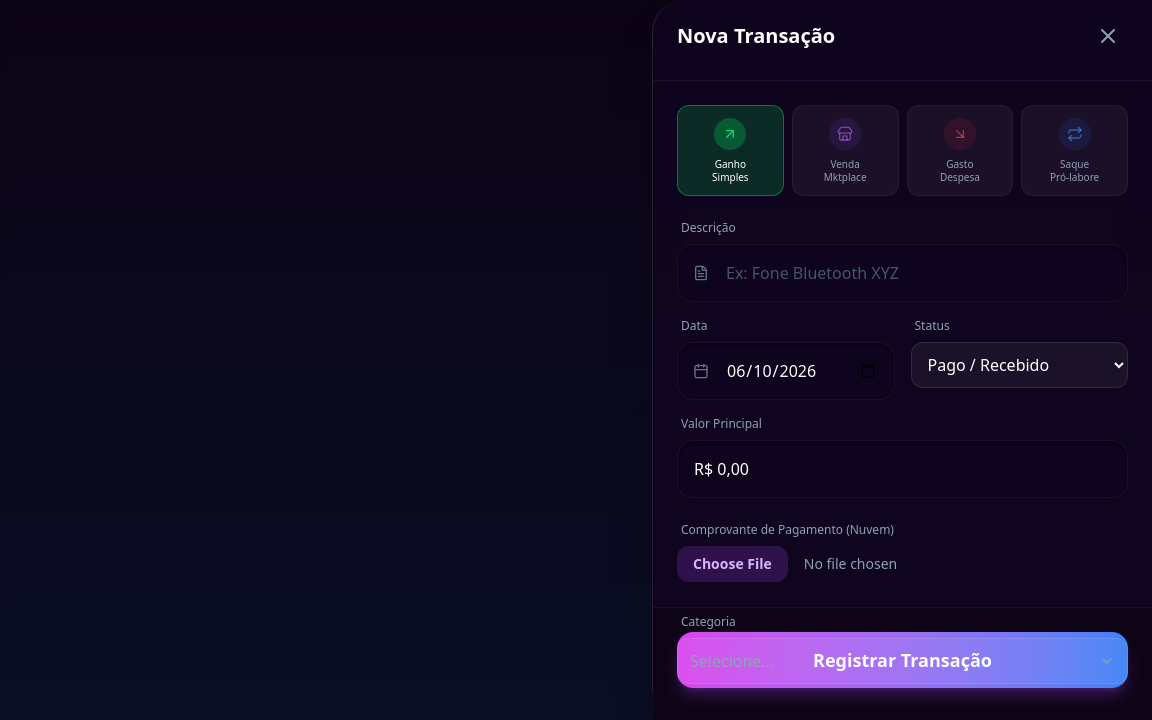
Test case: TransactionModal simplificado › renderiza bridge manual sem seletores de conta origem ou destino
The width and height of the screenshot is (1152, 720).
Click the 5th button at (1075, 150), box [1021, 105, 1128, 196]
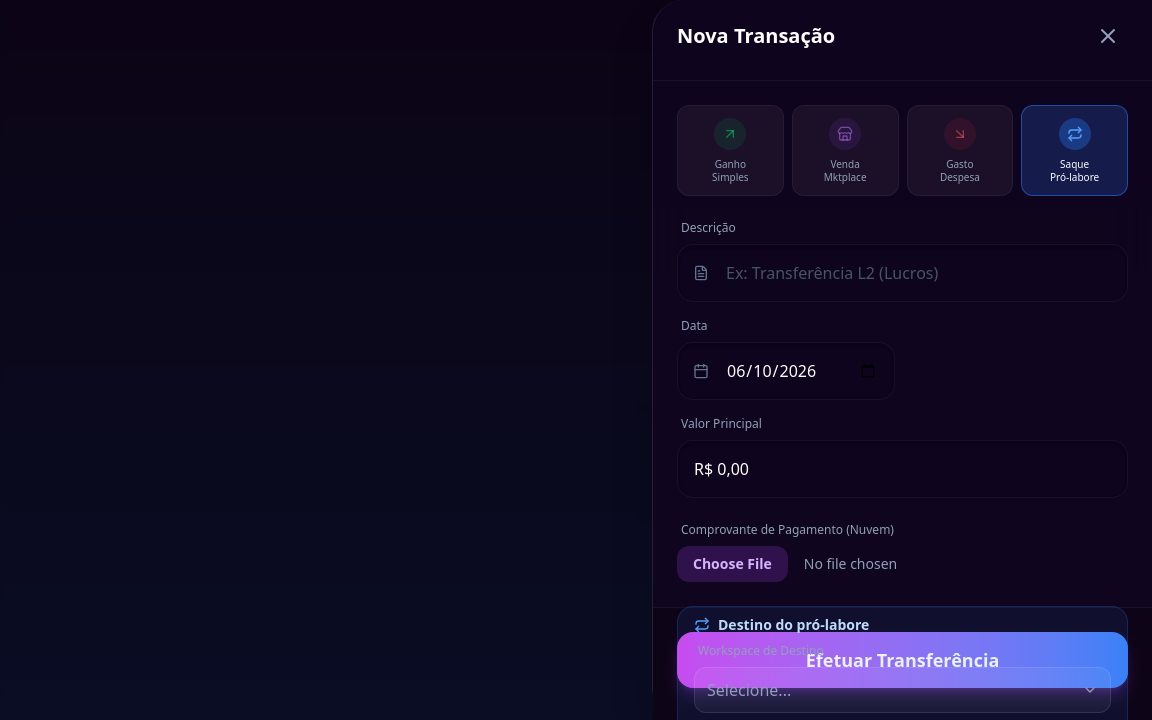
Expected: the text "Workspace de Destino" is shown, [698, 642, 824, 659]
